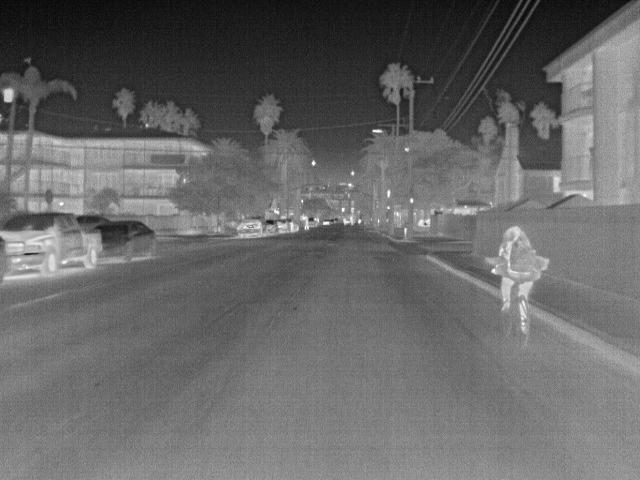car: (3, 211, 103, 277), (96, 221, 157, 262), (236, 218, 265, 237), (258, 220, 281, 236), (275, 220, 290, 234), (288, 220, 300, 232), (307, 215, 319, 226)
person: (494, 221, 539, 331), (302, 216, 311, 230)
